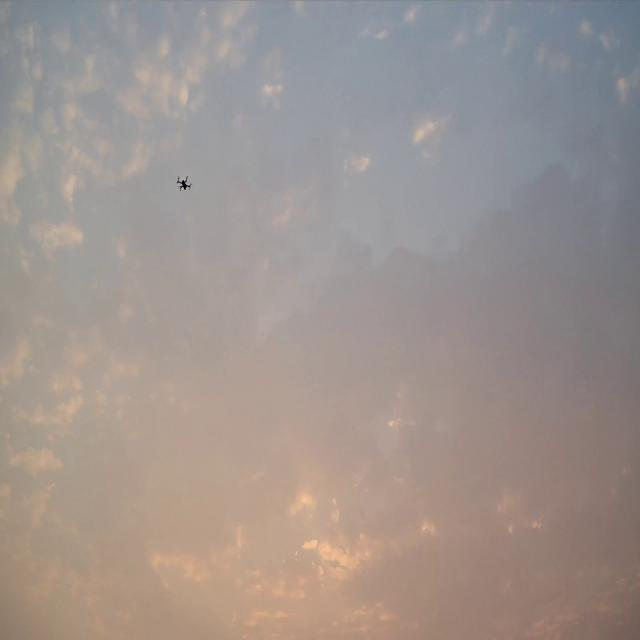drone: (176, 175, 193, 191)
